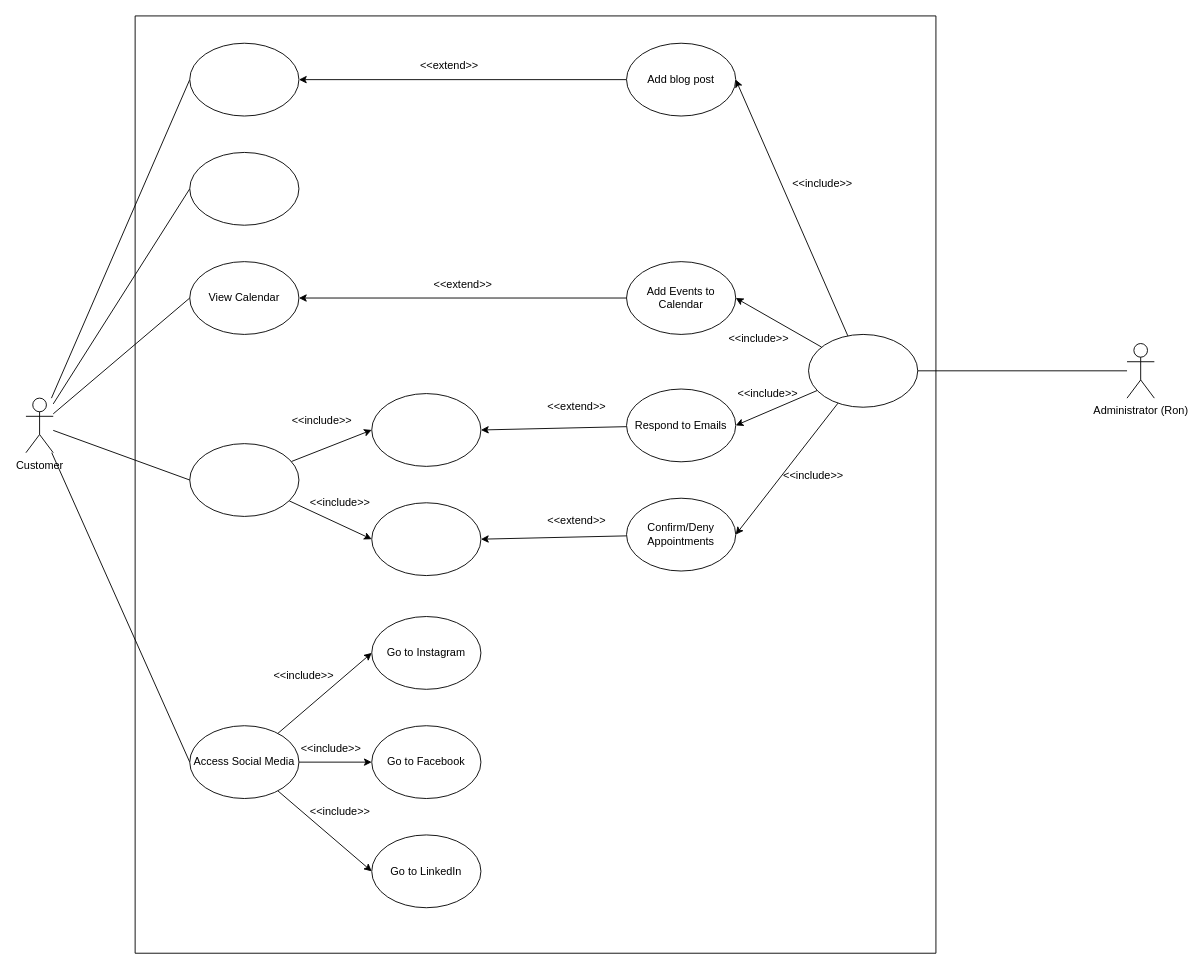
This 1203x969 diagram has some shape labels left out. Here are the shapes that lost their labels. From the top down, the centre of each, then its label:
At pixel 244 79: "Read Blog".
At pixel 244 188: "Use Calculators".
At pixel 863 370: "Access Admin Portal".
At pixel 426 429: "Send Email to Admin".
At pixel 244 479: "Make Inquiry".
At pixel 426 539: "Schedule Appointment".
